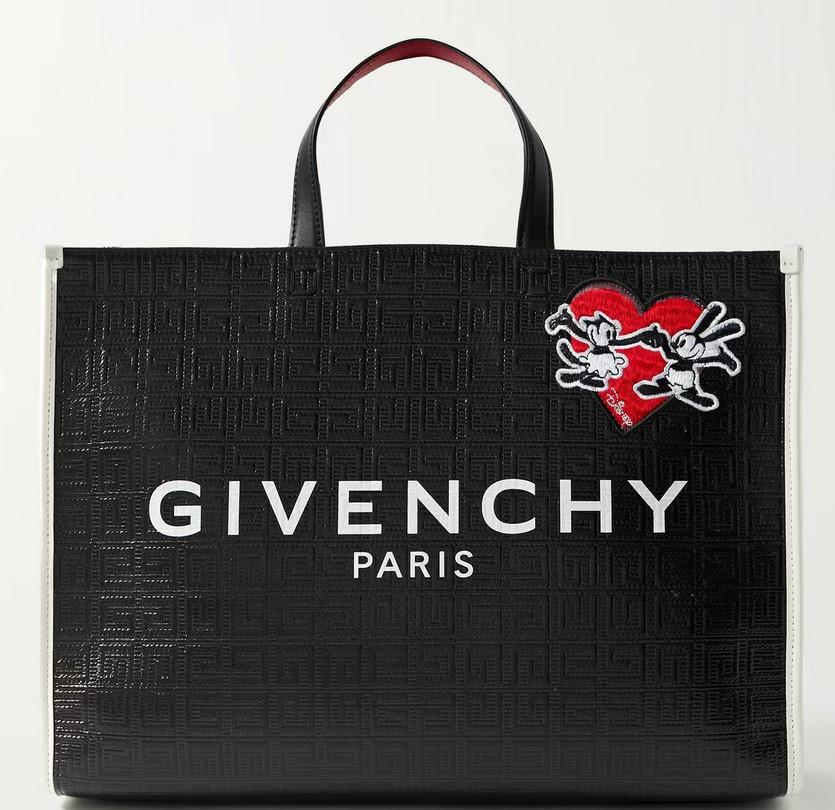GIVENCHY: (136, 458, 710, 546)
